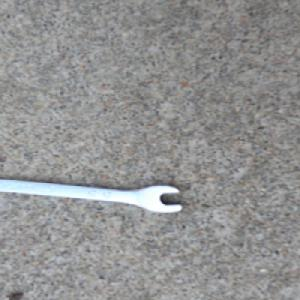Wrench: (0, 177, 185, 214)
